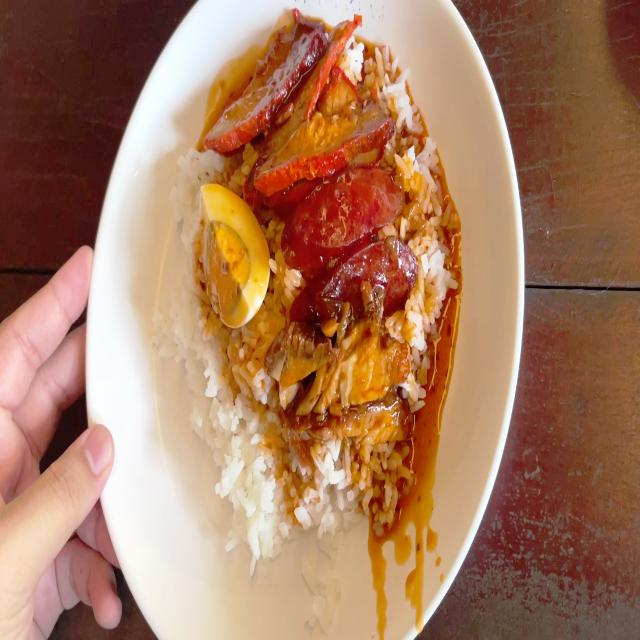boiled_egg: (200, 186, 267, 322)
chainese_sausage: (285, 173, 413, 318)
crispy_pork: (265, 330, 407, 444)
red_pork: (208, 34, 388, 173)
red_pork_and_crispy_pork: (173, 26, 438, 535)
rice: (180, 326, 268, 534), (258, 443, 408, 533)
